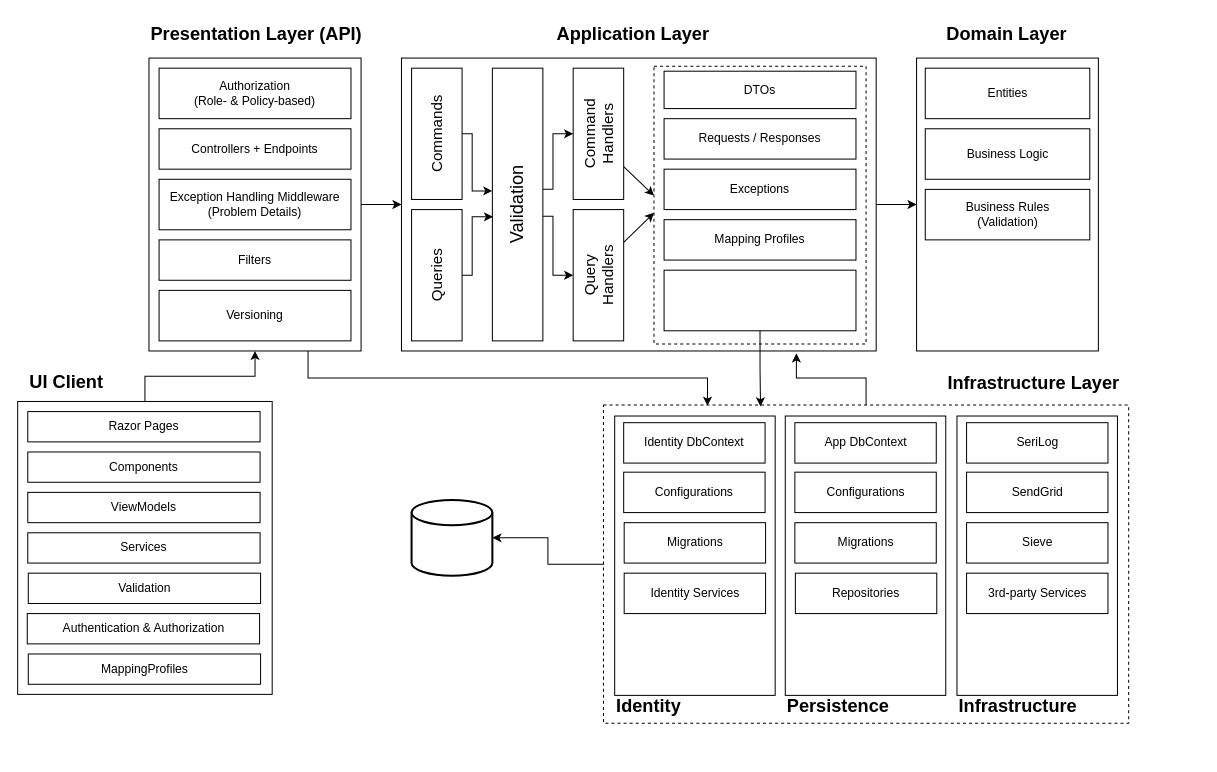
Image size: 1217x772. Some labels were removed from this diagram. The shapes that lost their labels are listed below. From the top down, each one's box as (x1, y1, x2, y2) in pixels, then its label:
(663, 269, 856, 331): Contracts (Infrastructure Interfaces)
(410, 498, 493, 576): App DB (SQL Server)
